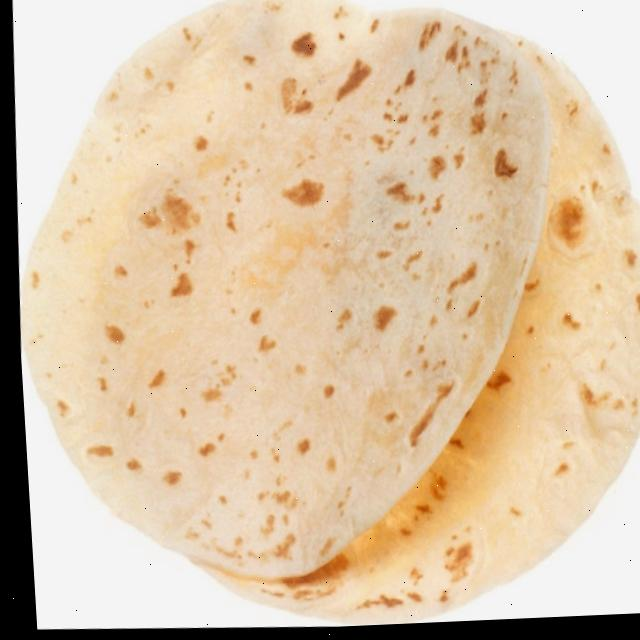面包点心: (29, 0, 640, 617)
